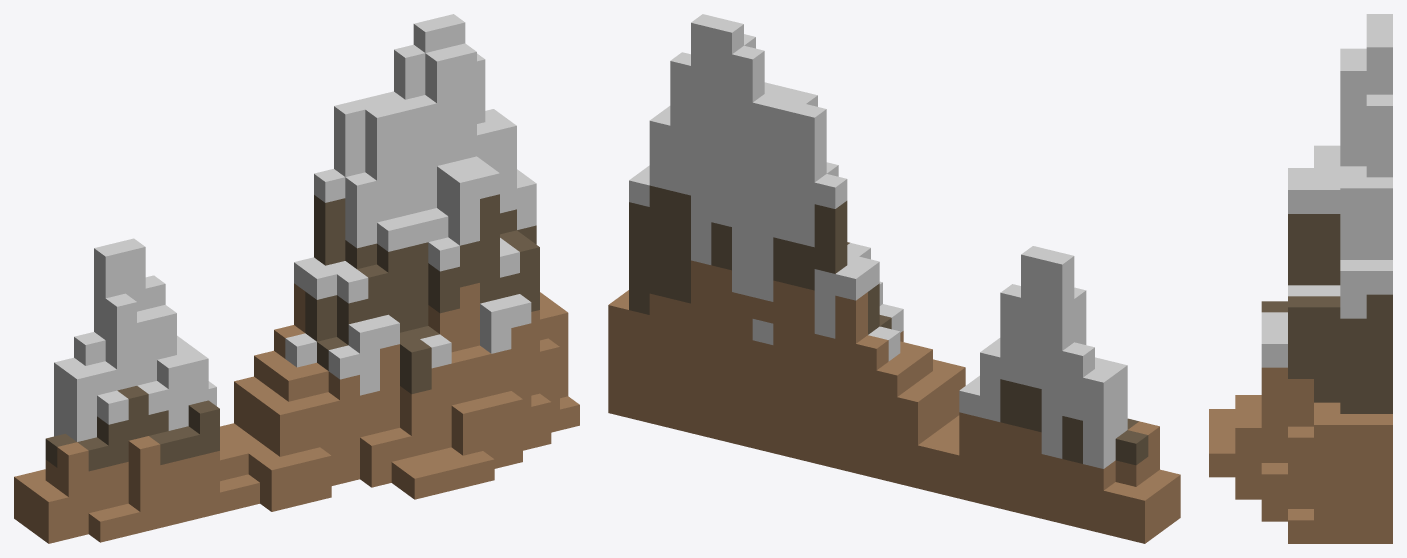
The model's file is Mountains_2.obj.
The picture shows the model from 3 angles, left to right: view 1: azimuth 30°, elevation 25°; view 2: azimuth 150°, elevation 25°; view 3: azimuth 270°, elevation 25°; orthographic projection. The views are drawn at different scales.
Size of the model in its own units: 26 by 19 by 7.
1 material, 1 textured.
